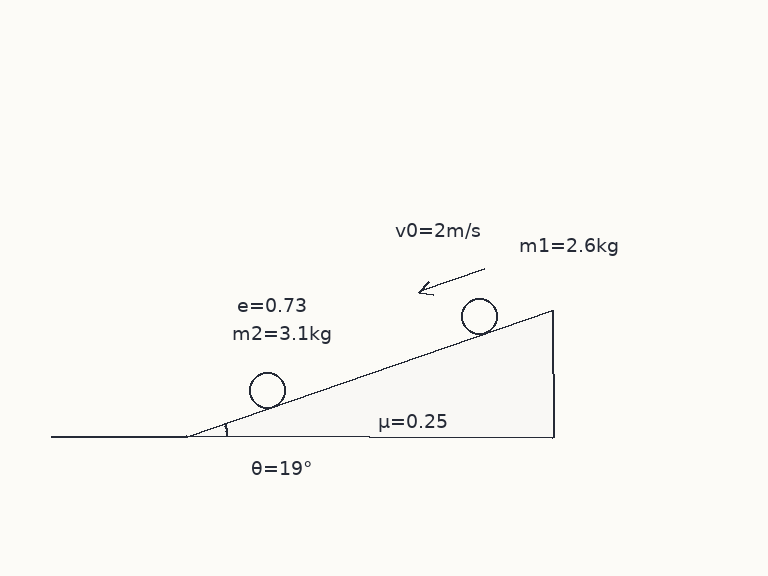ball: (459, 296, 499, 336), (247, 370, 287, 410)
ramp: (185, 308, 554, 438)
